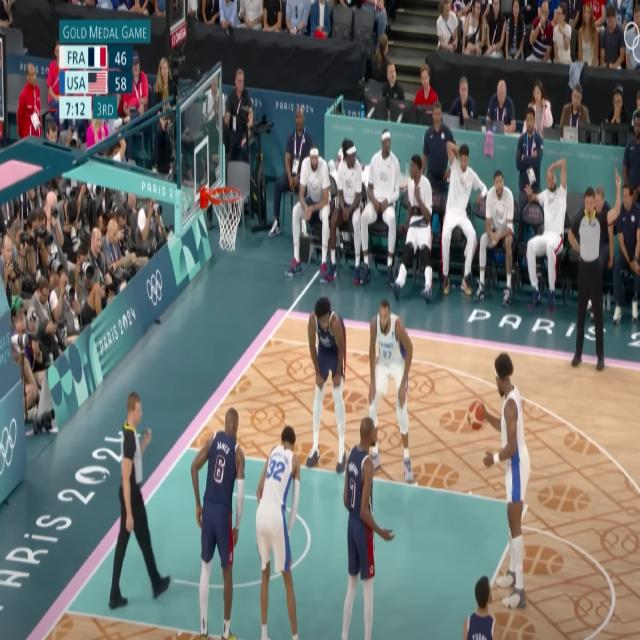basketball: (468, 400, 484, 430)
hoop: (208, 185, 242, 252)
